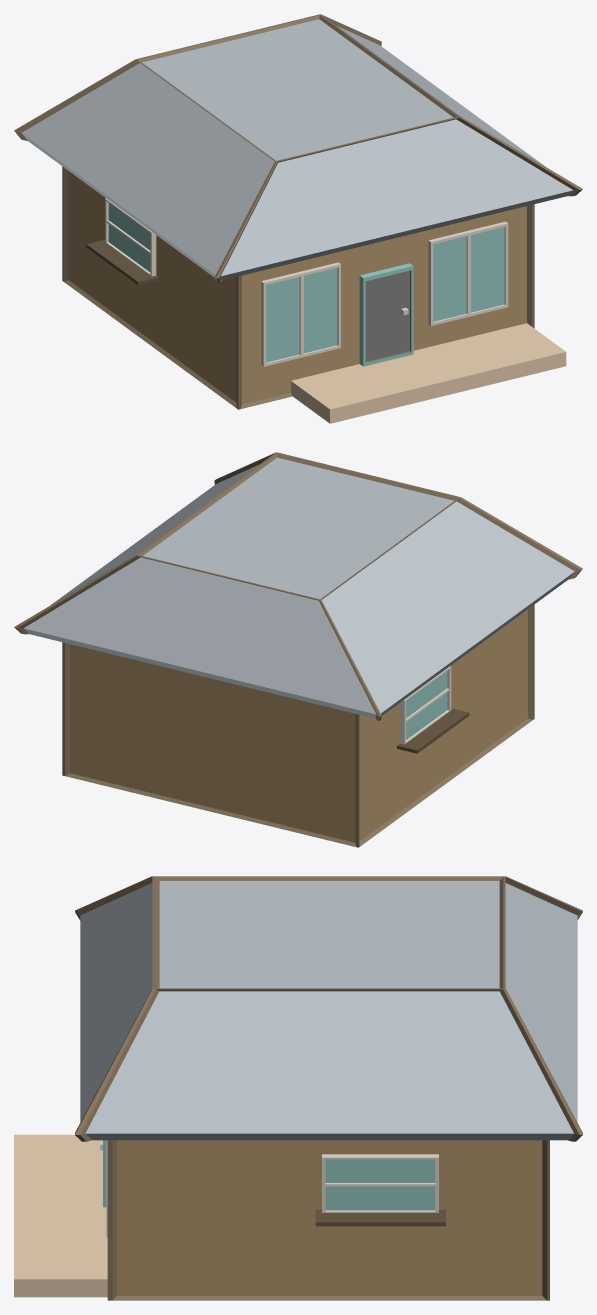
The model's file is House1.fbx.
3 views of the same model, one above another, from view 1: azimuth 30°, elevation 25°; view 2: azimuth 150°, elevation 25°; view 3: azimuth 270°, elevation 25° (orthographic). The views are drawn at different scales.
Parts seen in each view (by area): view 1: pCube236; view 2: pCube236; view 3: pCube236.
Part boxes in pixels (left/top/right/bottom): pCube236: left=14, top=14, right=582, bottom=423; pCube236: left=14, top=452, right=582, bottom=847; pCube236: left=14, top=876, right=582, bottom=1300.
Size of the model in its own units: 12.54 by 7.22 by 13.43.
